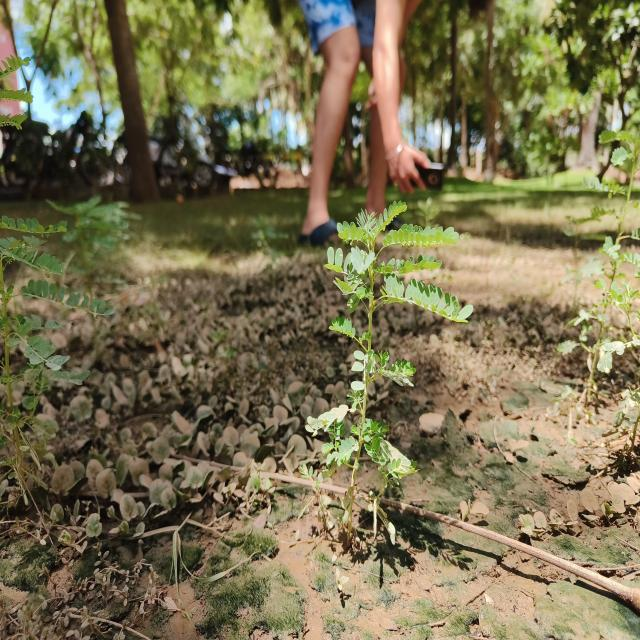weed: (306, 199, 474, 505), (1, 209, 116, 447)
